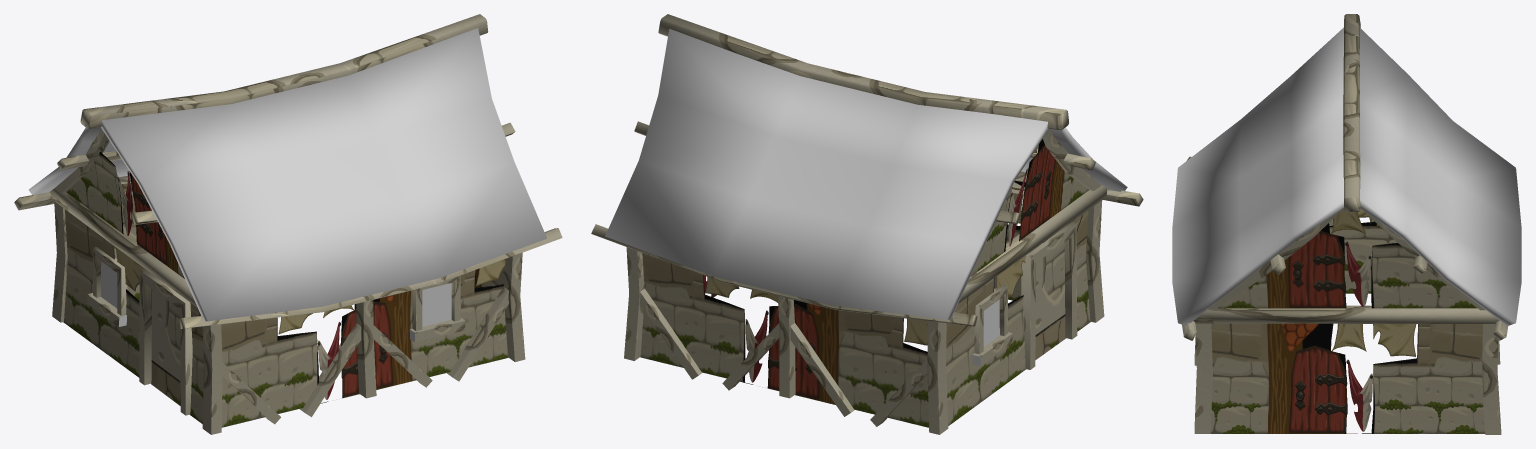
File: Farm.FBX
3 views of the same model, side by side, from view 1: azimuth 30°, elevation 25°; view 2: azimuth 150°, elevation 25°; view 3: azimuth 270°, elevation 25° (orthographic). The views are drawn at different scales.
Visible parts, largest first — view 1: Farm; view 2: Farm; view 3: Farm.
Boxes of the visible parts, left/top/right/bottom form: Farm: left=14, top=14, right=562, bottom=434; Farm: left=591, top=14, right=1143, bottom=434; Farm: left=1172, top=14, right=1521, bottom=434.
Bounding box in the file's own units: 7.87 × 5.32 × 6.34.
